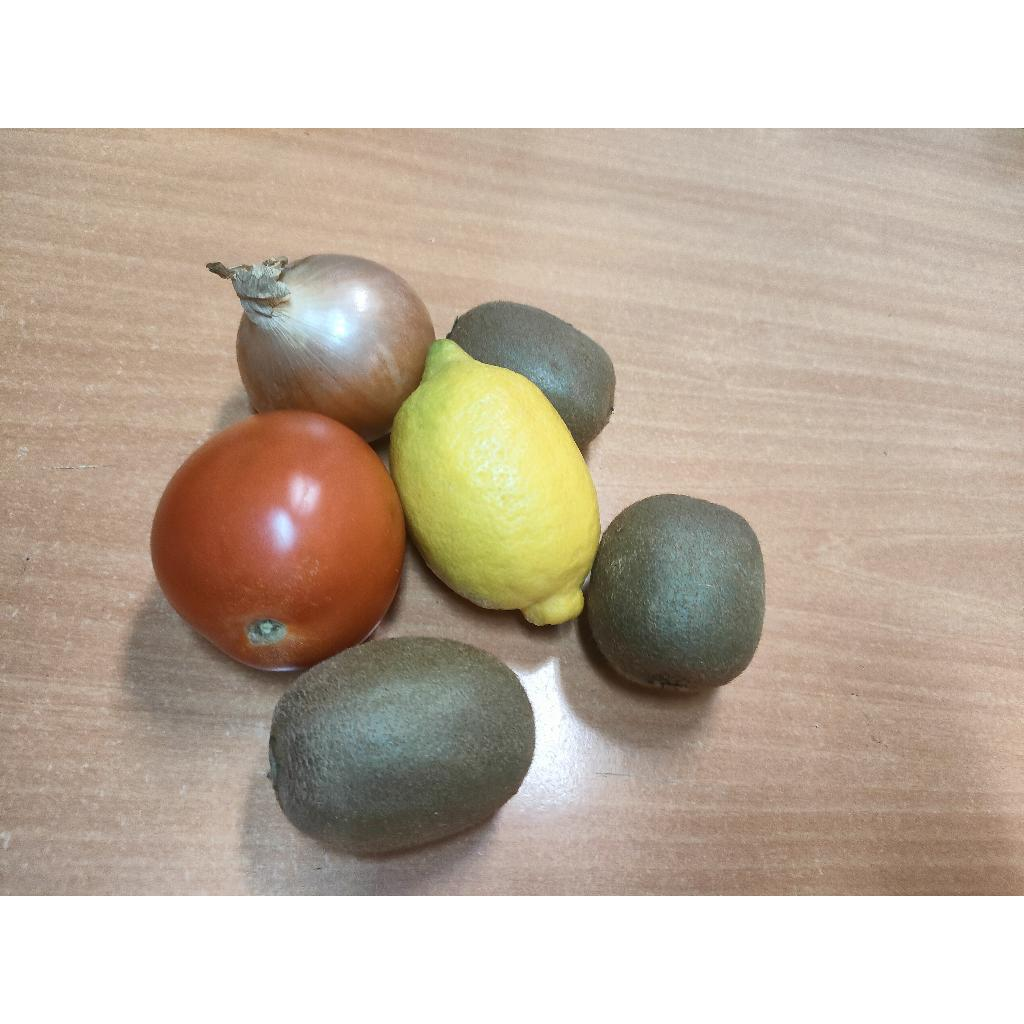lemon: (390, 340, 600, 626)
